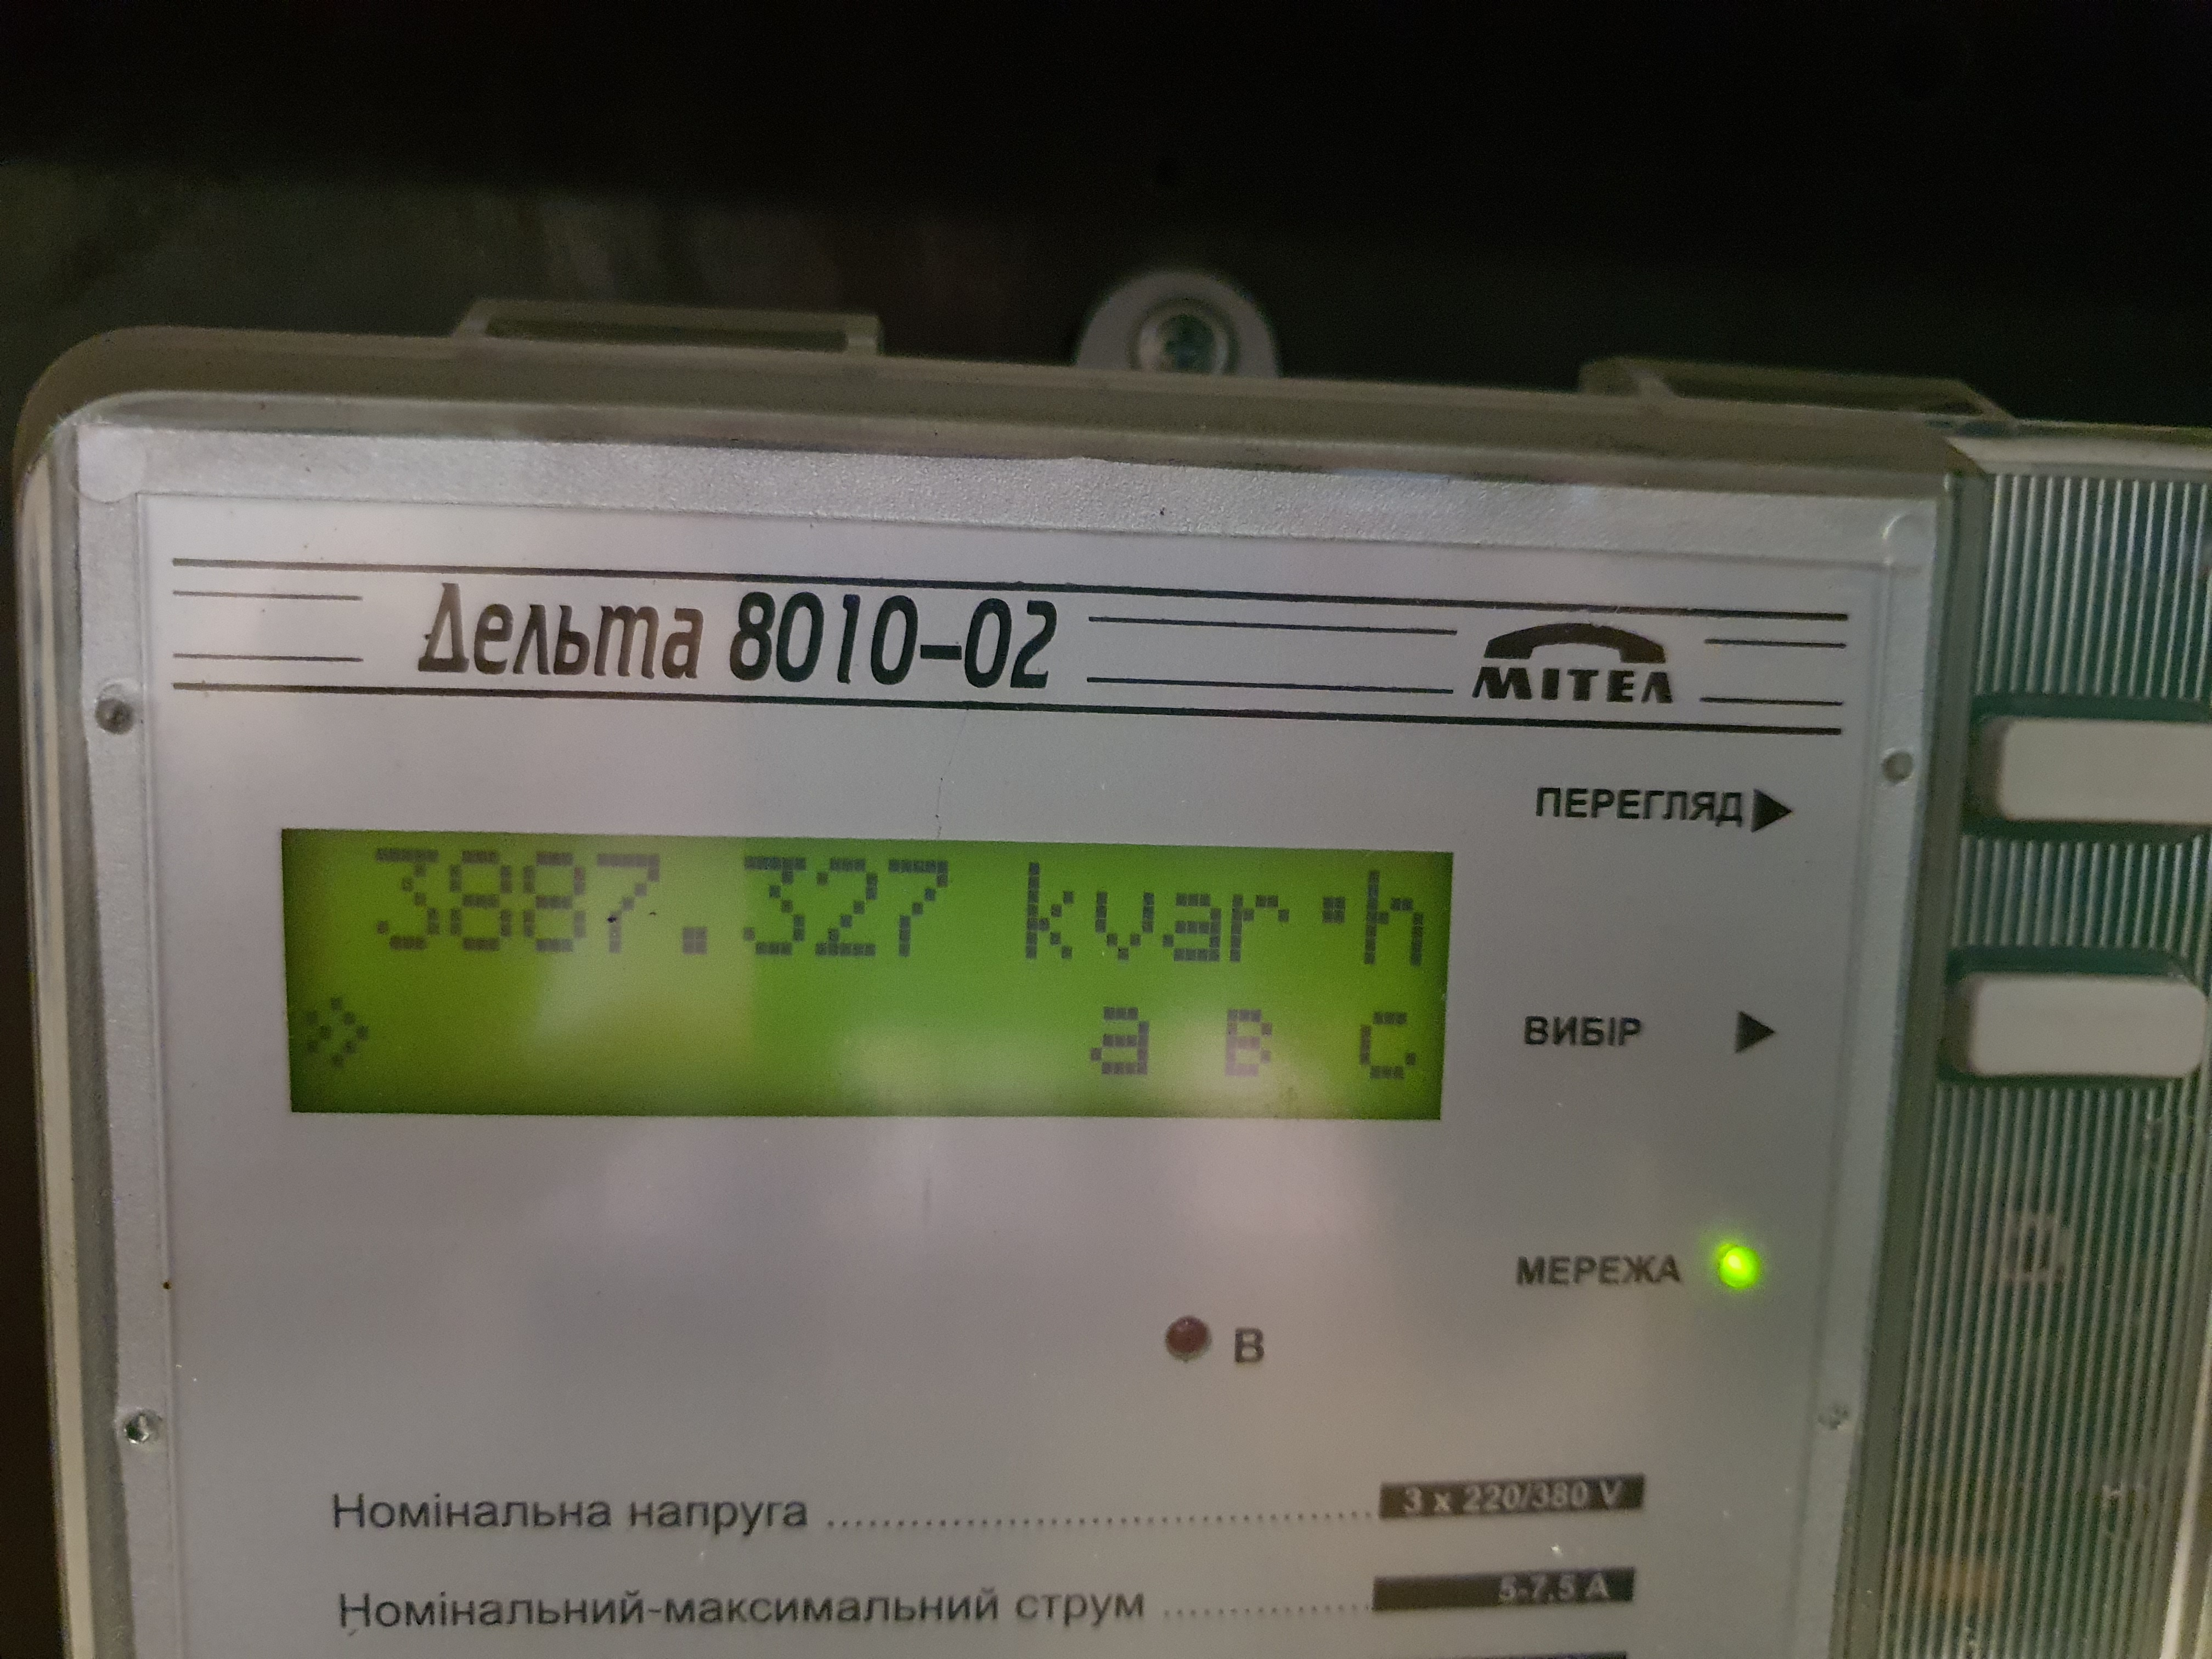screen: (240, 782, 1487, 1173)
